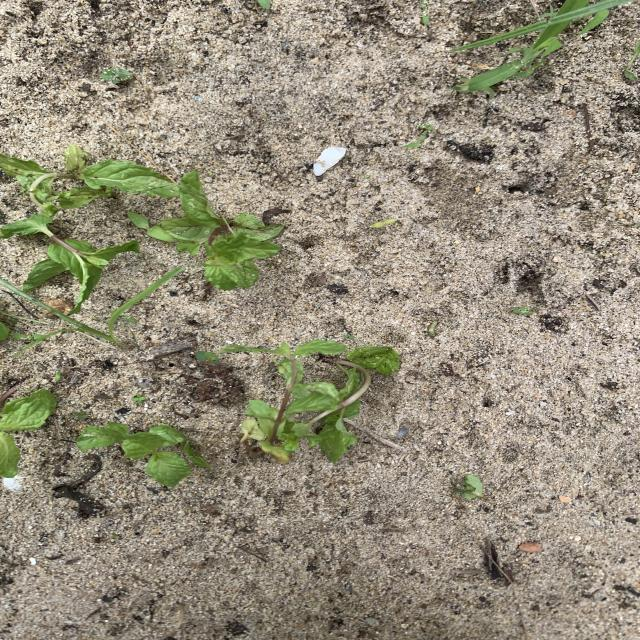crop: (220, 340, 399, 464), (160, 171, 284, 290), (0, 211, 137, 307), (0, 145, 180, 217), (76, 422, 211, 485), (0, 388, 55, 476)
weed: (453, 2, 629, 91), (0, 267, 182, 347), (127, 210, 176, 242), (453, 474, 485, 499), (403, 124, 432, 147), (100, 67, 131, 83), (195, 351, 219, 365), (43, 328, 70, 339), (511, 305, 538, 315), (12, 333, 44, 341), (370, 219, 395, 227), (133, 394, 146, 403), (427, 321, 435, 335), (52, 370, 61, 382), (74, 411, 87, 418), (256, 1, 270, 7)
